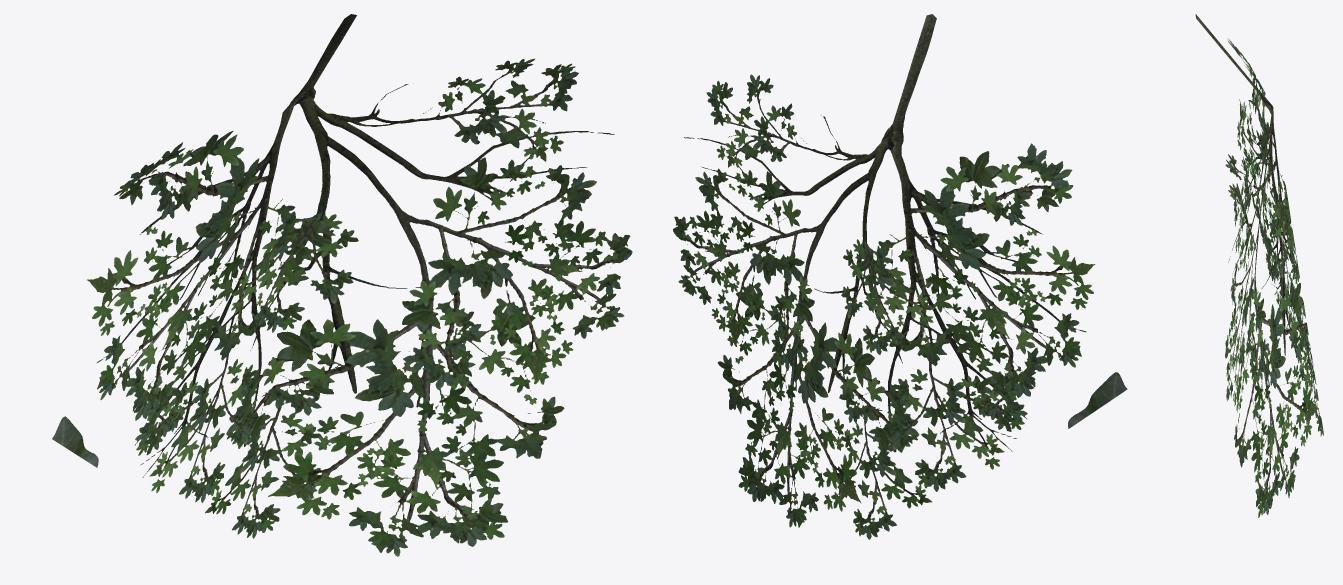
The model's file is sycamoreBranch.fbx.
3 views of the same model, side by side, from view 1: azimuth 30°, elevation 25°; view 2: azimuth 150°, elevation 25°; view 3: azimuth 270°, elevation 25° (orthographic). The views are drawn at different scales.
Visible parts, largest first — view 1: Polygon; view 2: Polygon; view 3: Polygon.
Part boxes in pixels (x1=…): Polygon: x1=52, y1=14, x2=632, y2=556; Polygon: x1=673, y1=14, x2=1127, y2=539; Polygon: x1=1195, y1=14, x2=1323, y2=517.
Size of the model in its own units: 20 by 19.32 by 5.18.
